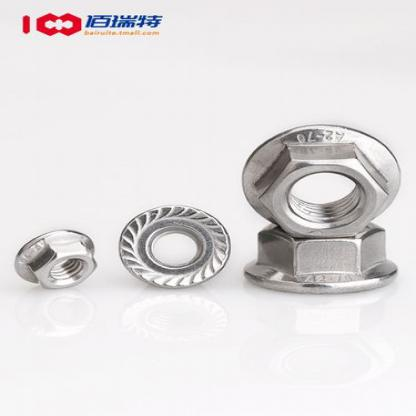FOD: (237, 120, 406, 240), (241, 216, 400, 296), (114, 202, 233, 294), (10, 227, 100, 291)
